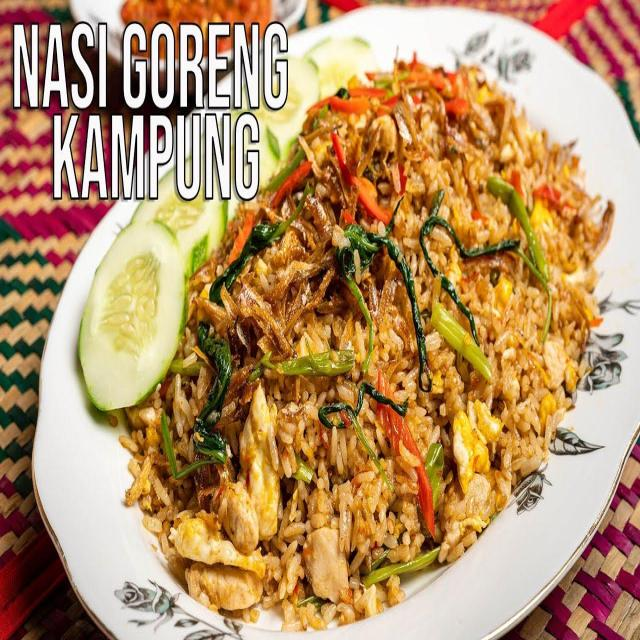Nasi Goreng: (194, 84, 574, 602)
